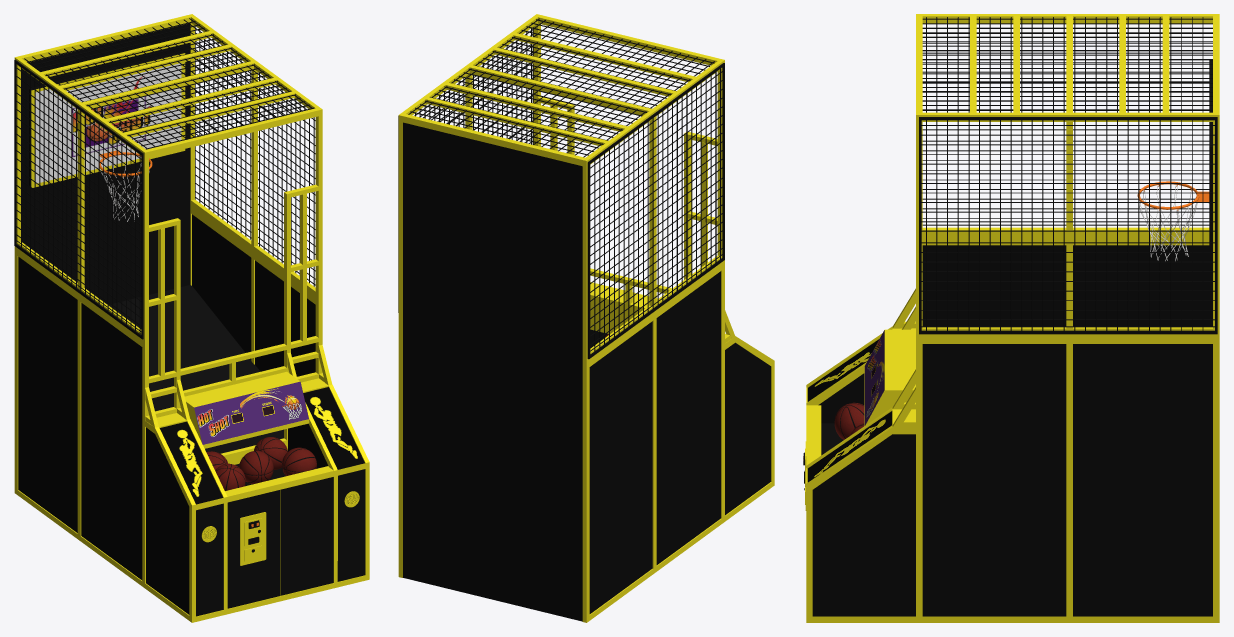
Rendered from Hot Shot Final.fbx.
The picture shows the model from 3 angles, left to right: view 1: azimuth 30°, elevation 25°; view 2: azimuth 150°, elevation 25°; view 3: azimuth 270°, elevation 25°; orthographic projection. The views are drawn at different scales.
Parts seen in each view (by area): view 1: Hot_Shot_Body, Big3_Ball2, Big3_Ball1, Big3_Ball5, Big3_Ball3; view 2: Hot_Shot_Body; view 3: Hot_Shot_Body, Big3_Ball3.
Boxes of the visible parts, x1=… form: Hot_Shot_Body: x1=14, y1=14, x2=369, y2=622; Big3_Ball2: x1=239, y1=451, x2=273, y2=484; Big3_Ball1: x1=282, y1=447, x2=316, y2=476; Big3_Ball5: x1=254, y1=437, x2=287, y2=469; Big3_Ball3: x1=215, y1=463, x2=245, y2=490; Hot_Shot_Body: x1=398, y1=14, x2=774, y2=622; Hot_Shot_Body: x1=803, y1=14, x2=1219, y2=622; Big3_Ball3: x1=834, y1=402, x2=864, y2=439.
Bounding box in the file's own units: 125 × 289 × 215.
1 material, 1 textured.
